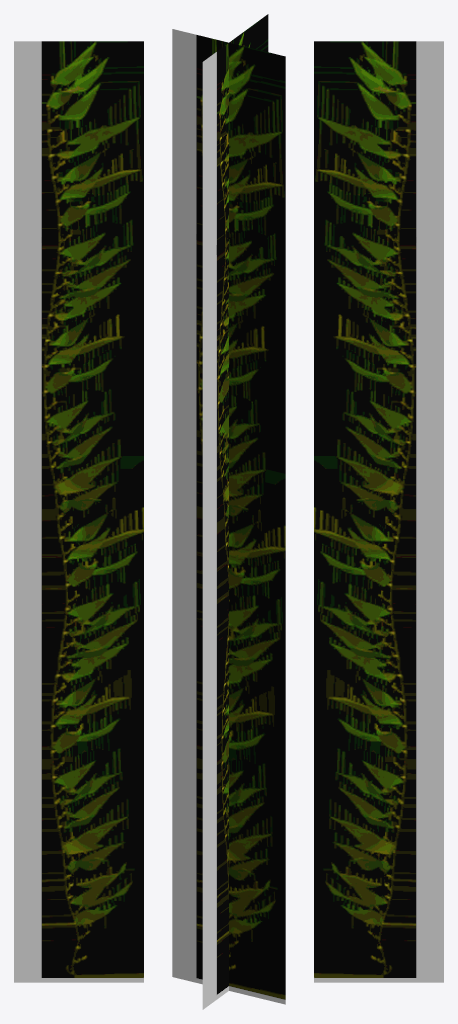
Rendered from Kelp2.glb.
3 views of the same model, side by side, from view 1: azimuth 90°, elevation 25°; view 2: azimuth 150°, elevation 25°; view 3: azimuth 270°, elevation 25° (orthographic).
Visible parts, largest first — view 1: T_Kelp2.001; view 2: T_Kelp2.001; view 3: T_Kelp2.001.
Part boxes in pixels (bbox=[...]): T_Kelp2.001: bbox=[14, 41, 143, 982]; T_Kelp2.001: bbox=[172, 14, 285, 1009]; T_Kelp2.001: bbox=[314, 41, 443, 982].
Bounding box in the file's own units: 0.125 × 1 × 0.125.
Materials: 1 (1 with a texture image).
